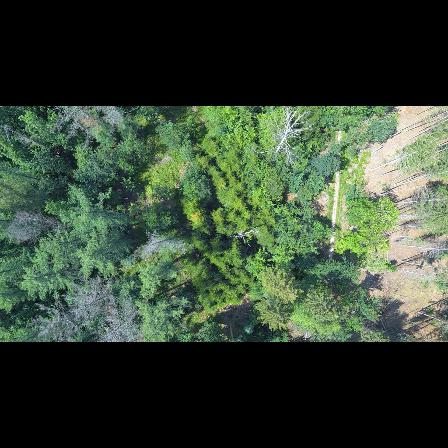Dead: (49, 106, 131, 150), (258, 107, 317, 168), (5, 207, 68, 245), (71, 277, 125, 318), (128, 228, 192, 262), (99, 301, 149, 342), (35, 305, 82, 342), (228, 224, 258, 247)
